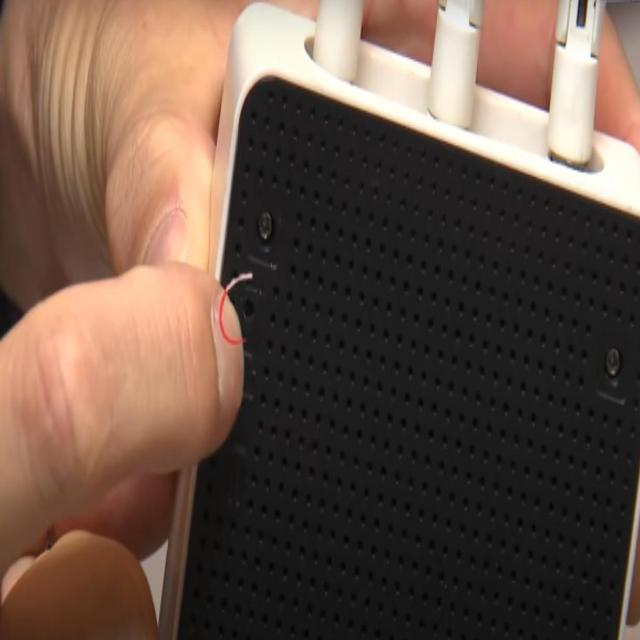hidden camera: (242, 294, 255, 329)
